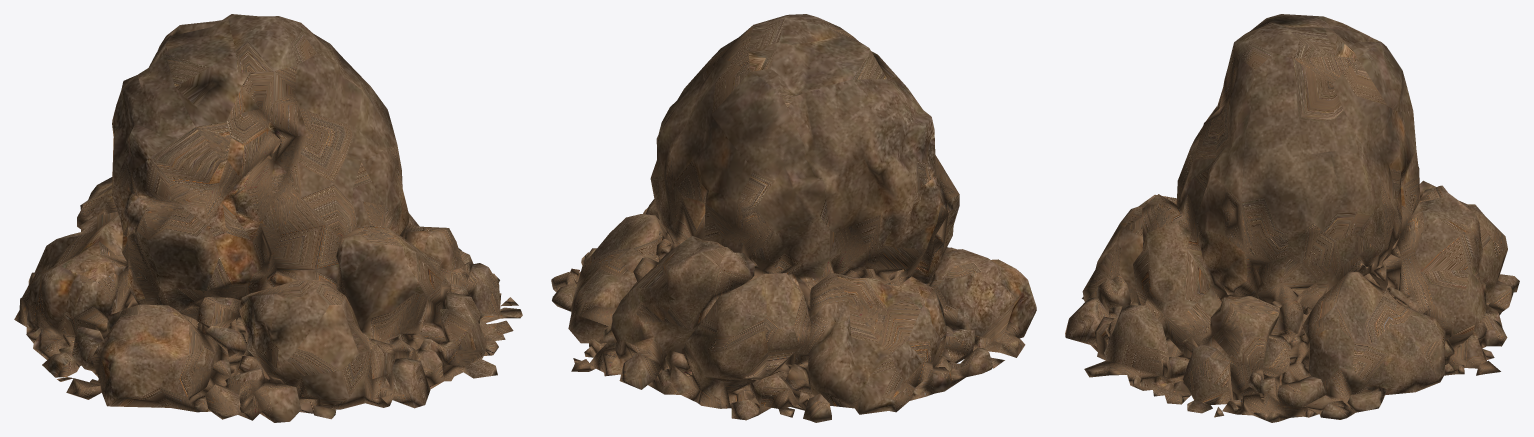
The model's file is mining-rock.glb.
3 views of the same model, side by side, from view 1: azimuth 30°, elevation 25°; view 2: azimuth 150°, elevation 25°; view 3: azimuth 270°, elevation 25° (orthographic). The views are drawn at different scales.
Parts seen in each view (by area): view 1: Mesh_0; view 2: Mesh_0; view 3: Mesh_0.
Part boxes in pixels (<box>): Mesh_0: <box>14,14,522,422</box>; Mesh_0: <box>551,14,1036,422</box>; Mesh_0: <box>1065,14,1519,422</box>.
Bounding box in the file's own units: 1.89 × 1.26 × 1.79.
Materials: 1 (1 with a texture image).
